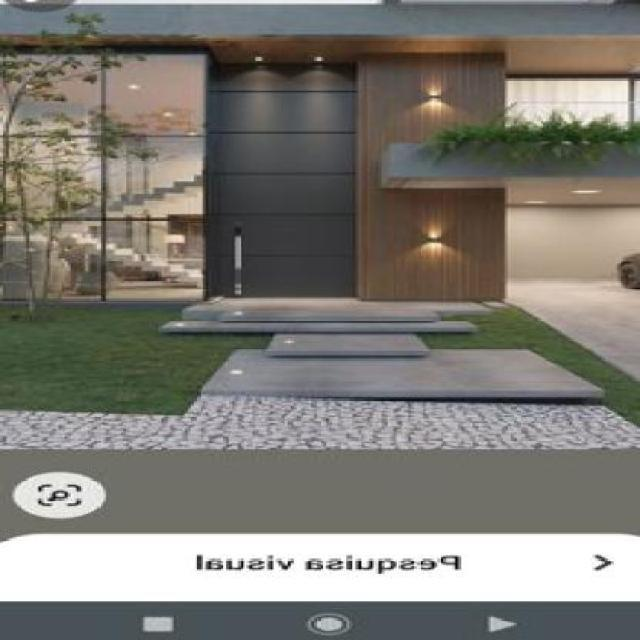stair: (190, 284, 612, 416)
